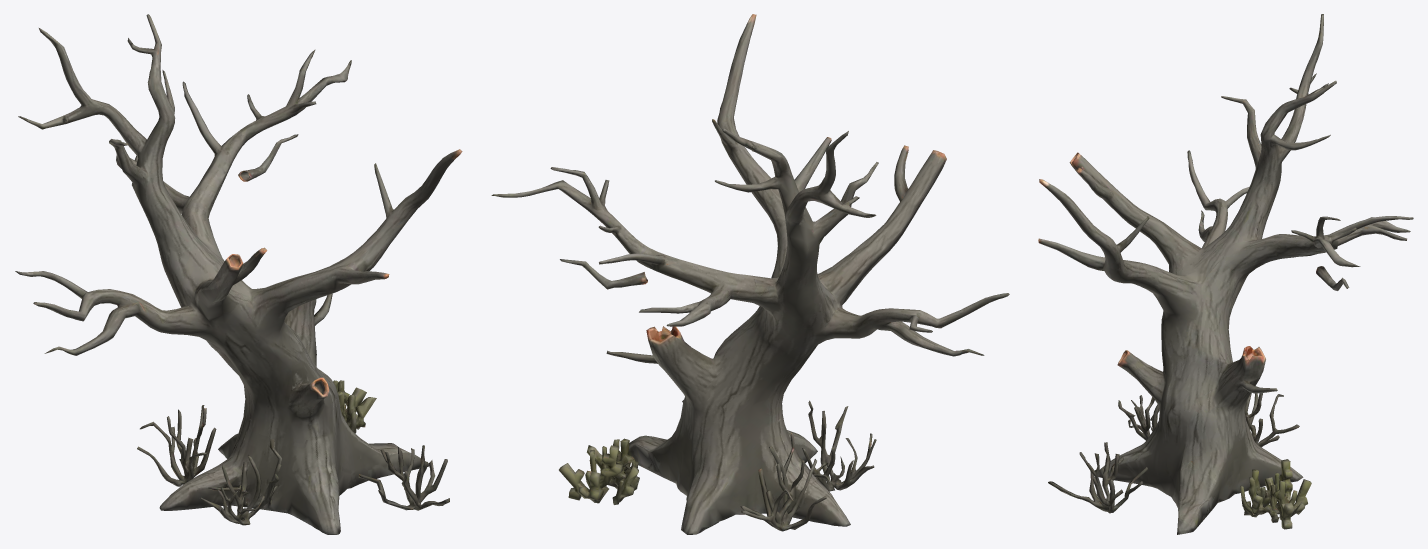
File: tree_dead.glb
3 views of the same model, side by side, from view 1: azimuth 30°, elevation 25°; view 2: azimuth 150°, elevation 25°; view 3: azimuth 270°, elevation 25° (orthographic). The views are drawn at different scales.
Parts seen in each view (by area): view 1: Mesh1.0; view 2: Mesh1.0; view 3: Mesh1.0.
Part boxes in pixels (x1,y1,x2,y2): Mesh1.0: [15, 14, 462, 534]; Mesh1.0: [491, 14, 1009, 534]; Mesh1.0: [1038, 14, 1413, 534].
Size of the model in its own units: 1.84 by 1.91 by 1.66.
Materials: 1 (1 with a texture image).
